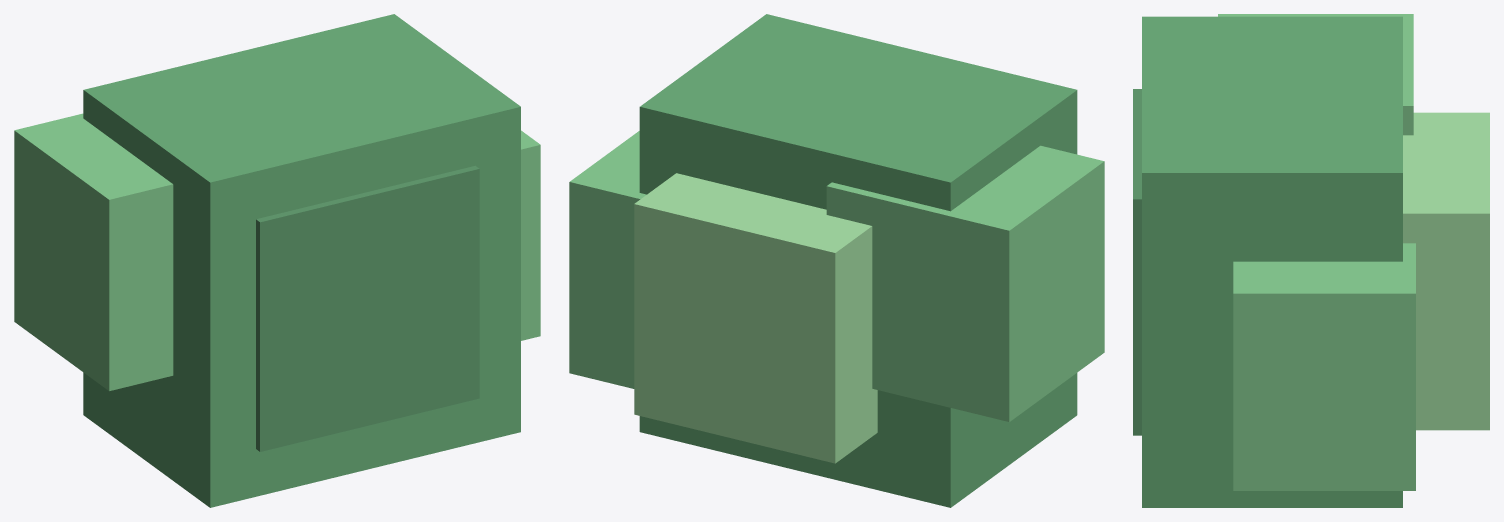
File: bush.glb
3 renders of one model, left to right at view 1: azimuth 30°, elevation 25°; view 2: azimuth 150°, elevation 25°; view 3: azimuth 270°, elevation 25°, orthographic. The views are drawn at different scales.
Visible parts, largest first — view 1: bush_Core, bush_Base, bush_LobeL, bush_LobeR; view 2: bush_Core, bush_LobeTop, bush_LobeL, bush_LobeR; view 3: bush_Core, bush_LobeR, bush_LobeTop, bush_Base, bush_LobeL.
Boxes of the visible parts, box(x1,y1,x2,y2) form: bush_Core: box(83, 14, 520, 507); bush_Base: box(256, 165, 479, 451); bush_LobeL: box(14, 113, 173, 391); bush_LobeR: box(521, 130, 540, 340); bush_Core: box(639, 14, 1077, 507); bush_LobeTop: box(634, 173, 877, 463); bush_LobeL: box(826, 145, 1104, 421); bush_LobeR: box(569, 131, 646, 388); bush_Core: box(1142, 16, 1402, 507); bush_LobeR: box(1233, 243, 1415, 490); bush_LobeTop: box(1403, 112, 1489, 430); bush_Base: box(1133, 89, 1141, 435); bush_LobeL: box(1218, 14, 1413, 135).
Bounding box in the file's own units: 1.2 × 0.85 × 0.82.
